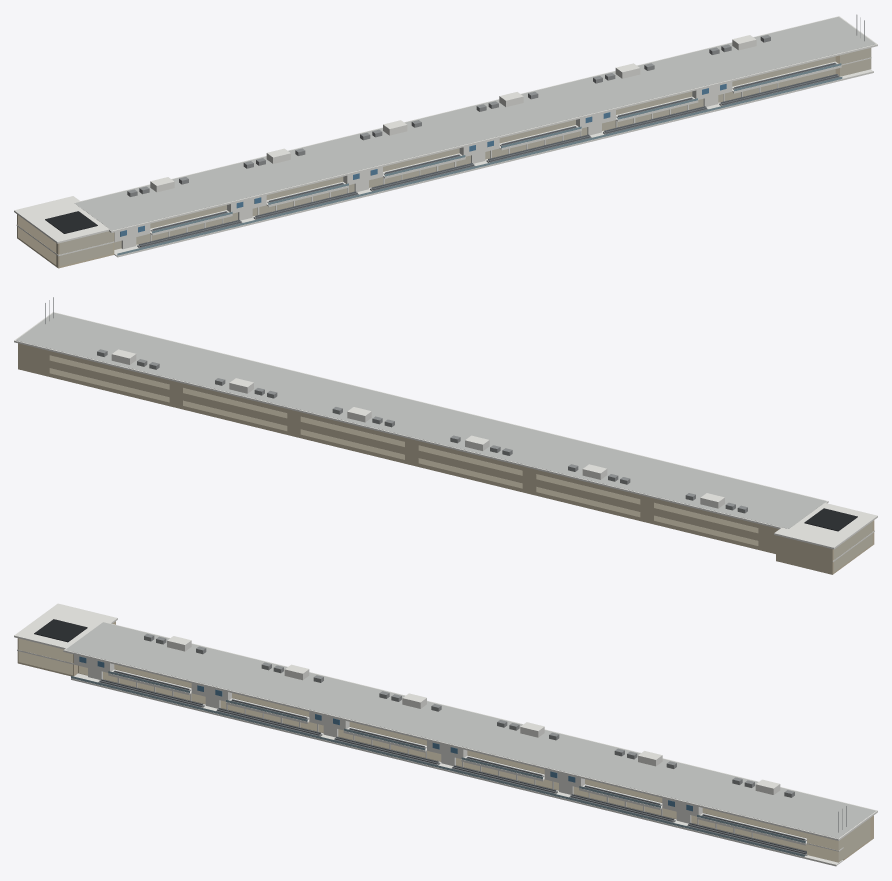
File: cota_pit_upper_v2.glb
The picture shows the model from 3 angles, top to bottom: view 1: azimuth 30°, elevation 25°; view 2: azimuth 150°, elevation 25°; view 3: azimuth 330°, elevation 25°; orthographic projection.
Visible parts, largest first — view 1: austin-pit-building; view 2: austin-pit-building; view 3: austin-pit-building.
Boxes of the visible parts, box(x1,y1,x2,y2) form: austin-pit-building: box(14, 14, 877, 268); austin-pit-building: box(14, 297, 877, 574); austin-pit-building: box(14, 603, 877, 866).
Size of the model in its own units: 366 by 21.05 by 35.6.
